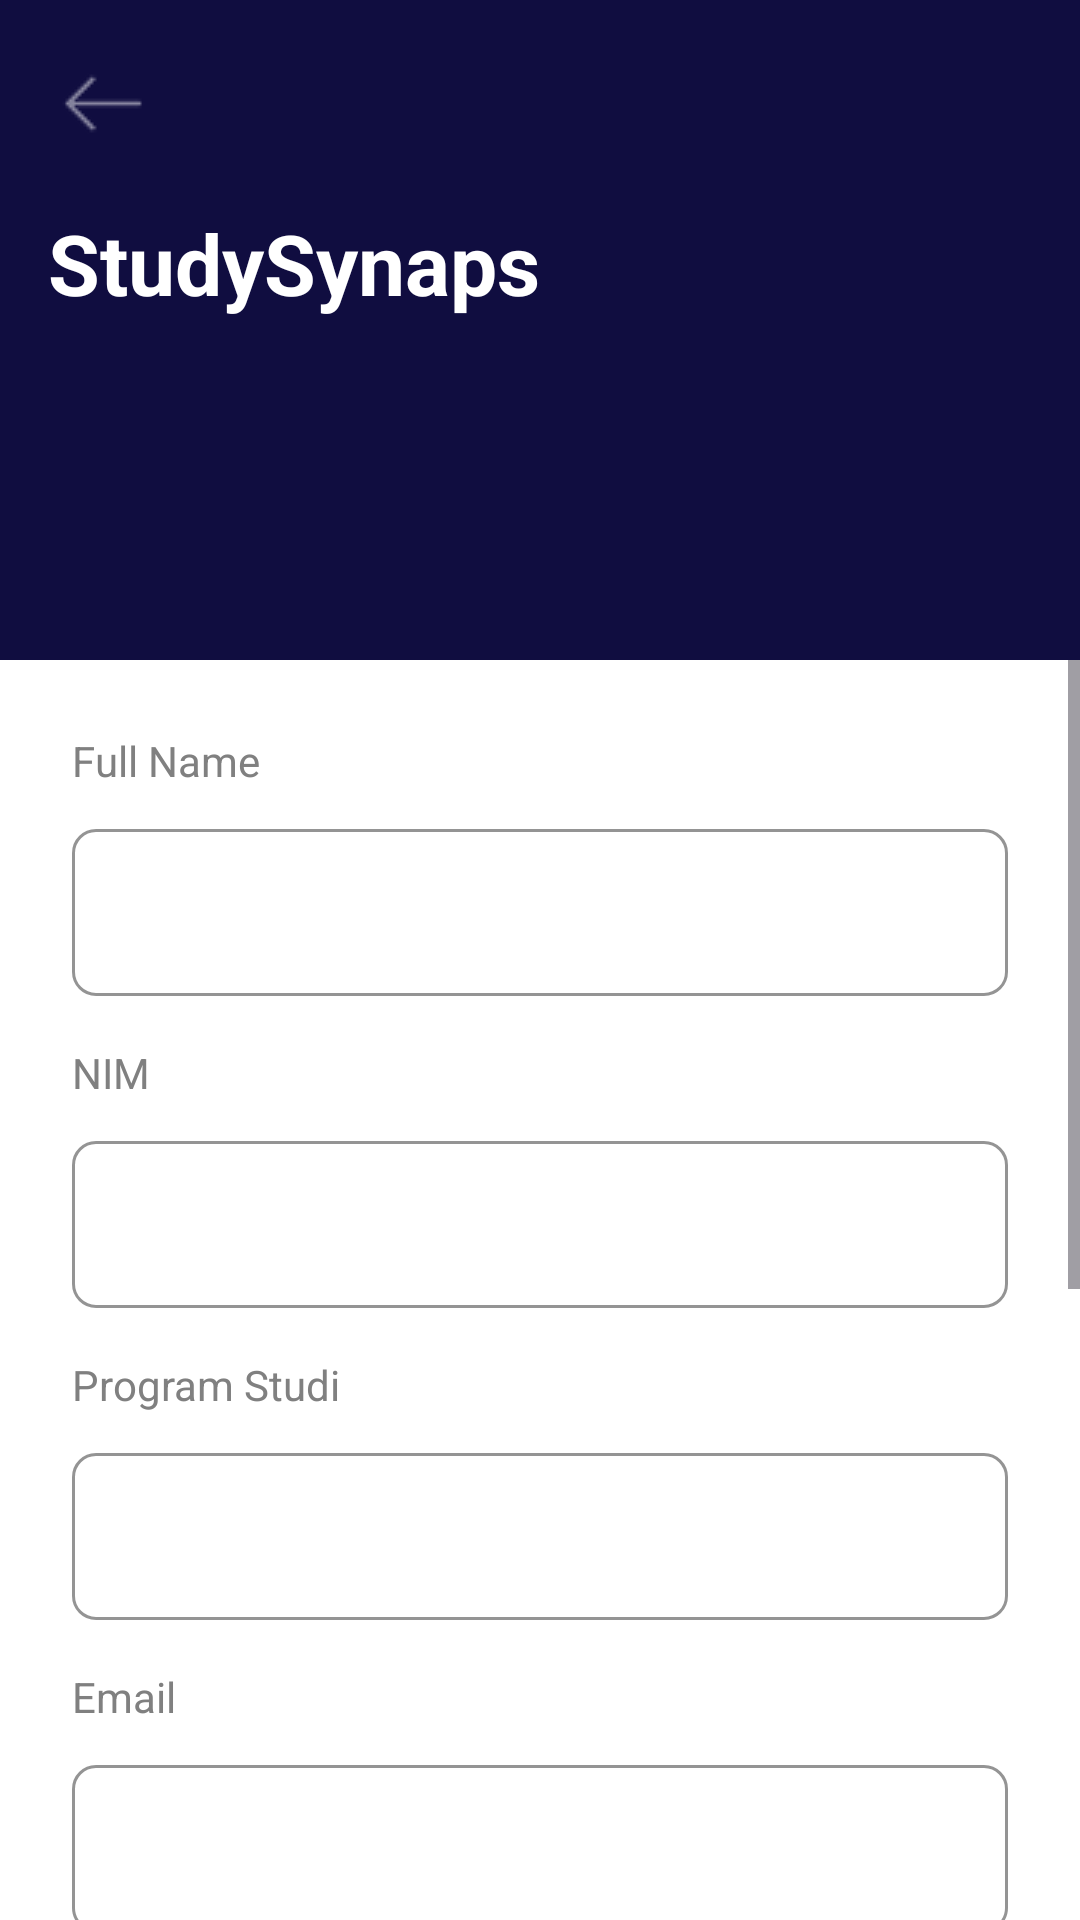

Icons on this 1080w x 1920h Android screen, each with the point to tap as point (x, y):
arrow back: point (103, 104)
